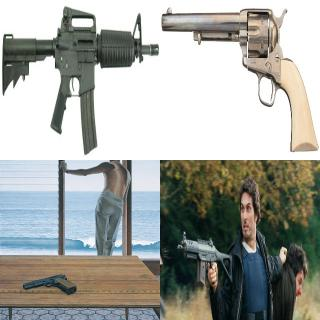gun: (159, 0, 317, 156), (2, 10, 158, 151), (176, 228, 232, 290), (21, 271, 79, 297)
